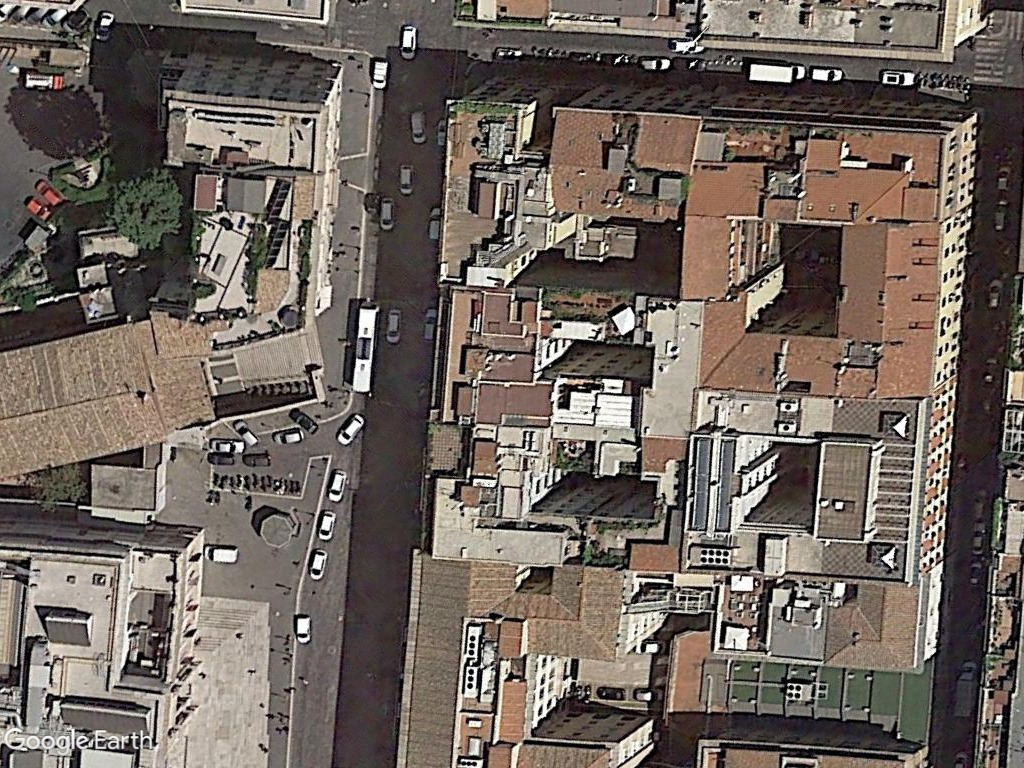bus: (350, 297, 377, 397)
car: (332, 410, 367, 448), (876, 65, 922, 88), (230, 417, 263, 449), (396, 22, 421, 63), (326, 465, 350, 507), (382, 304, 405, 347), (32, 178, 66, 207), (306, 546, 331, 585), (376, 193, 398, 236), (206, 434, 249, 456), (969, 518, 989, 564), (395, 159, 418, 198), (315, 506, 338, 545), (21, 198, 56, 223), (290, 407, 321, 435), (635, 53, 678, 73), (270, 427, 309, 448), (985, 275, 1006, 314), (990, 193, 1010, 232), (238, 451, 275, 472), (992, 164, 1016, 195), (206, 451, 243, 466)
truck: (745, 56, 810, 88), (956, 654, 980, 724), (18, 68, 70, 95)
van: (201, 539, 243, 566), (407, 106, 429, 148), (418, 302, 439, 345), (804, 63, 845, 85), (291, 611, 314, 649), (371, 55, 391, 93), (426, 203, 443, 244)
